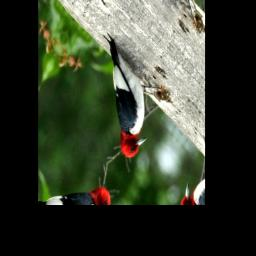Woodpecker: (73, 32, 168, 166)
